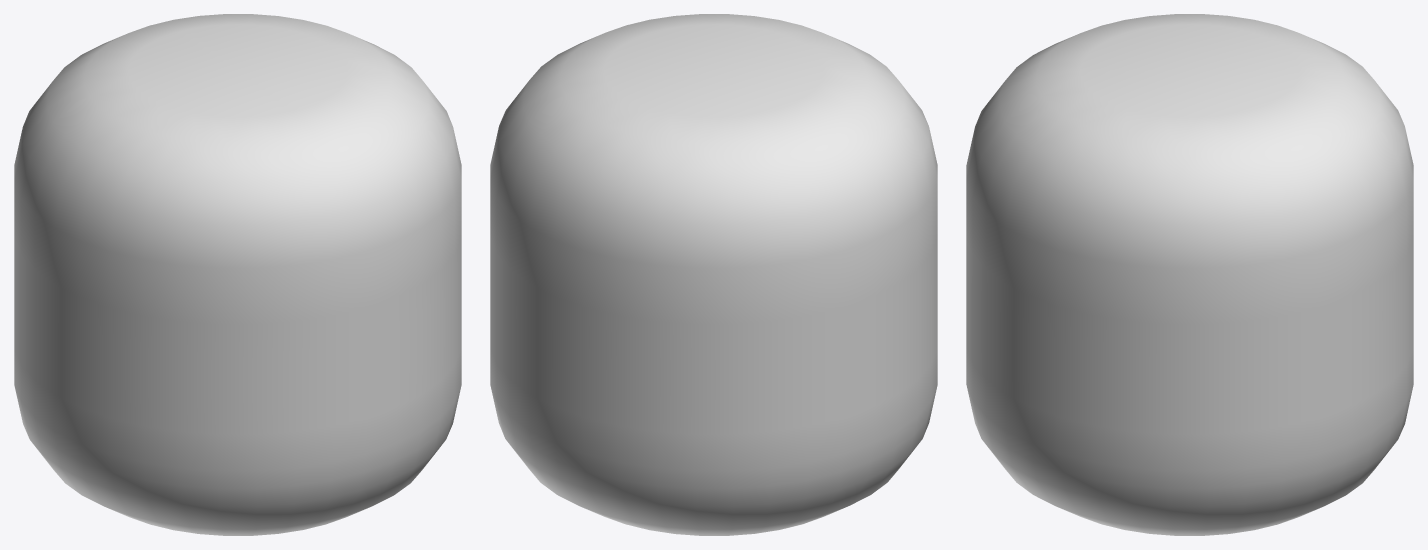
The model's file is 18-Sleepy-Tired-Face-face.glb.
3 renders of one model, left to right at view 1: azimuth 30°, elevation 25°; view 2: azimuth 150°, elevation 25°; view 3: azimuth 270°, elevation 25°, orthographic.
Parts seen in each view (by area): view 1: 18-Sleepy-Tired-Face-face; view 2: 18-Sleepy-Tired-Face-face; view 3: 18-Sleepy-Tired-Face-face.
Boxes of the visible parts, box(x1,y1,x2,y2) form: 18-Sleepy-Tired-Face-face: box(14, 14, 461, 535); 18-Sleepy-Tired-Face-face: box(490, 14, 937, 535); 18-Sleepy-Tired-Face-face: box(966, 14, 1413, 535).
Bounding box in the file's own units: 1.2 × 1.21 × 1.2.
1 material, 1 textured.
